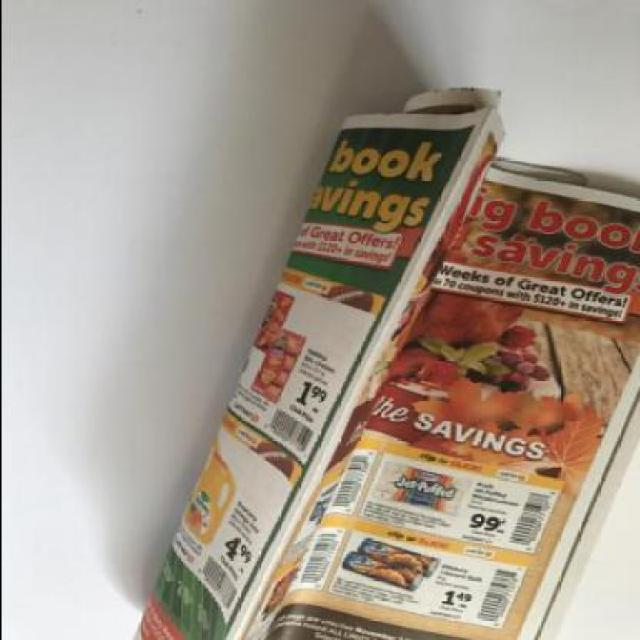paper: (127, 87, 638, 638)
